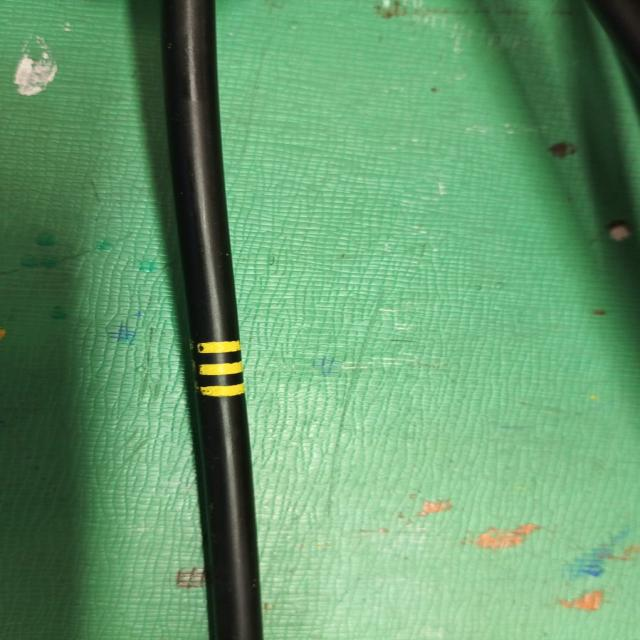yellow: (189, 342, 252, 398)
